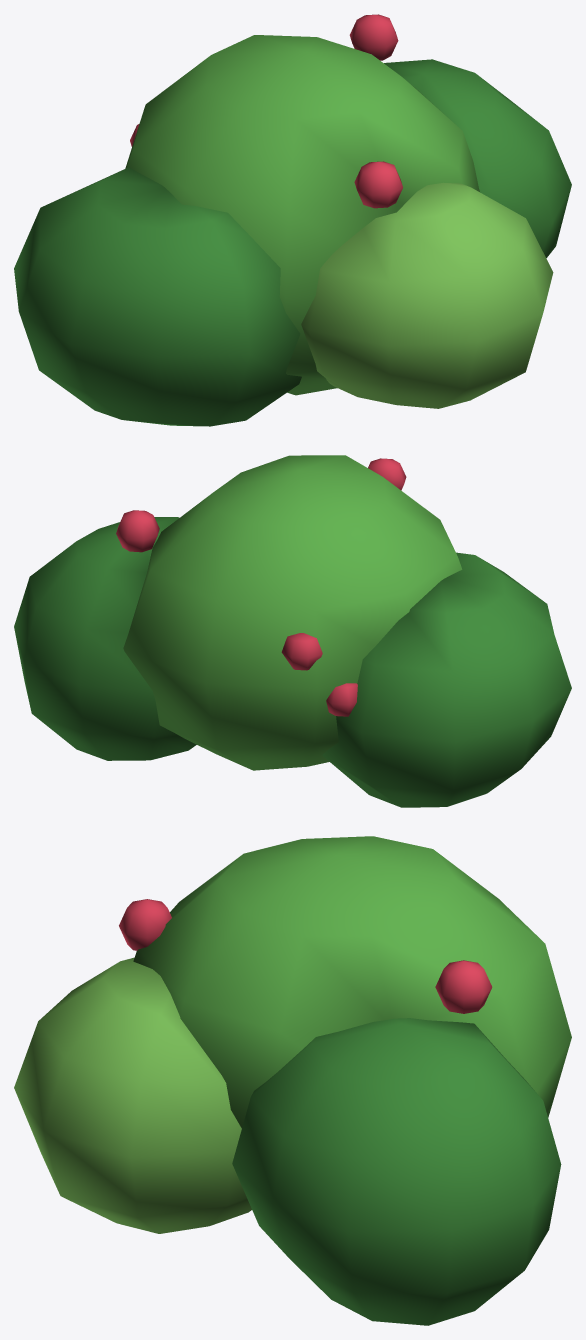
Rendered from bush.glb.
3 renders of one model, top to bottom at view 1: azimuth 30°, elevation 25°; view 2: azimuth 150°, elevation 25°; view 3: azimuth 270°, elevation 25°, orthographic. The views are drawn at different scales.
Parts seen in each view (by area): view 1: Bush; view 2: Bush; view 3: Bush.
Boxes of the visible parts, bbox=[...] form: Bush: bbox=[14, 14, 571, 426]; Bush: bbox=[14, 455, 571, 807]; Bush: bbox=[14, 836, 571, 1325].
Bounding box in the file's own units: 0.5611 × 0.324 × 0.4396.
1 material, 1 textured.
